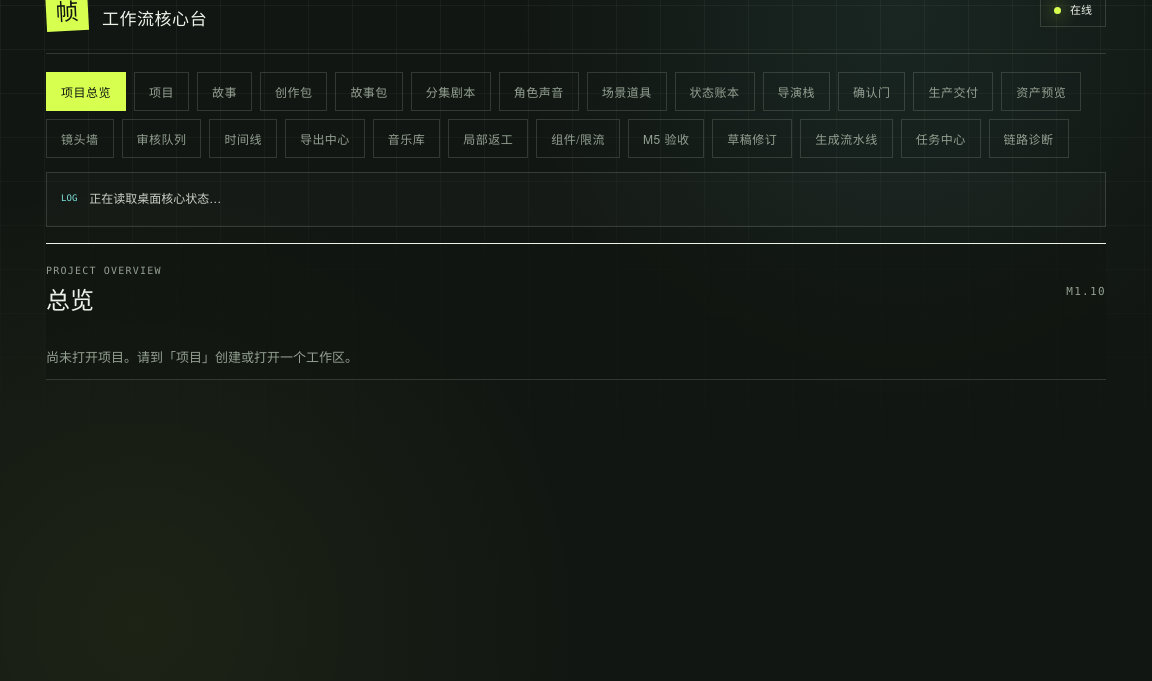
Test case: M1 shell › recovers after an intentional crash without replaying the crash request
The image size is (1152, 681).
Click the button "链路诊断".
click(1029, 138)  # box [989, 119, 1068, 158]
(page scrolled)
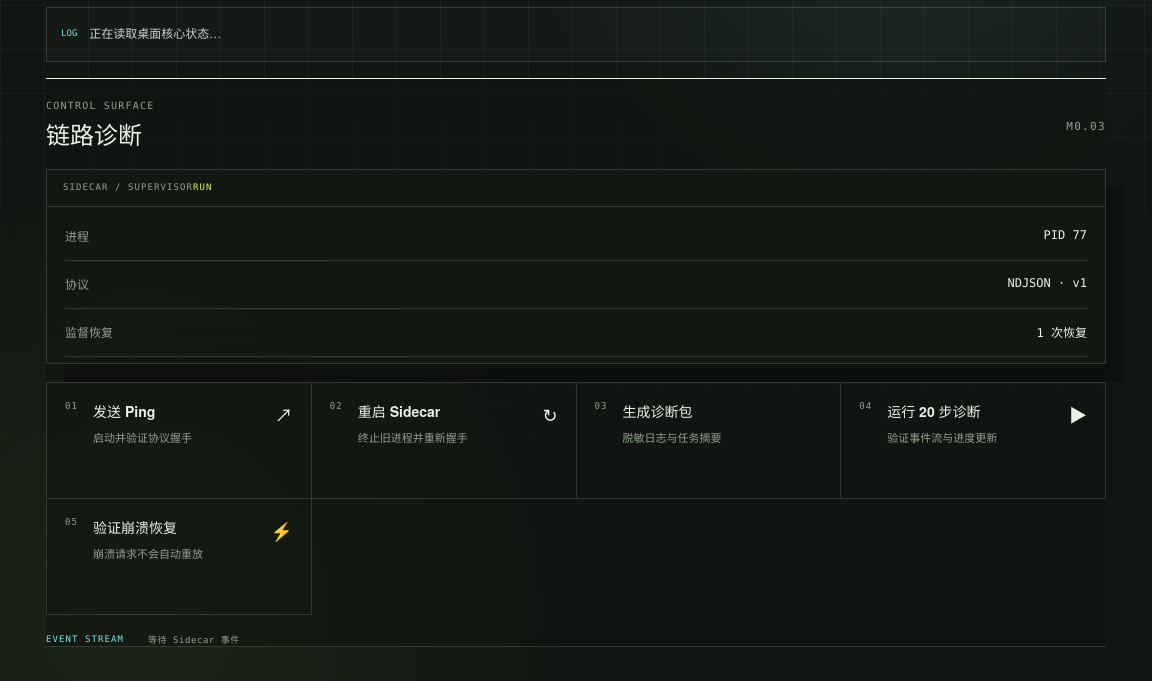
Click the button "05 验证崩溃恢复 崩溃请求不会自动重放 ⚡".
click(179, 557)  # box [47, 499, 312, 615]
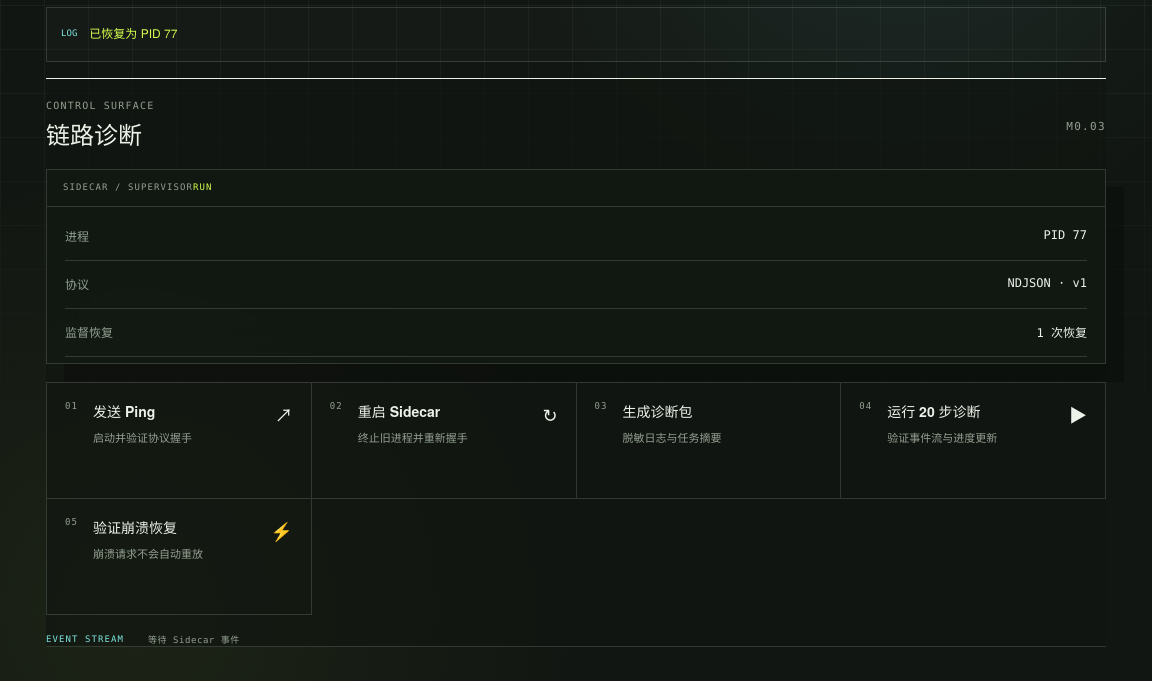
expect the text "已恢复为 PID 77" is shown: met, box [89, 25, 177, 44]
